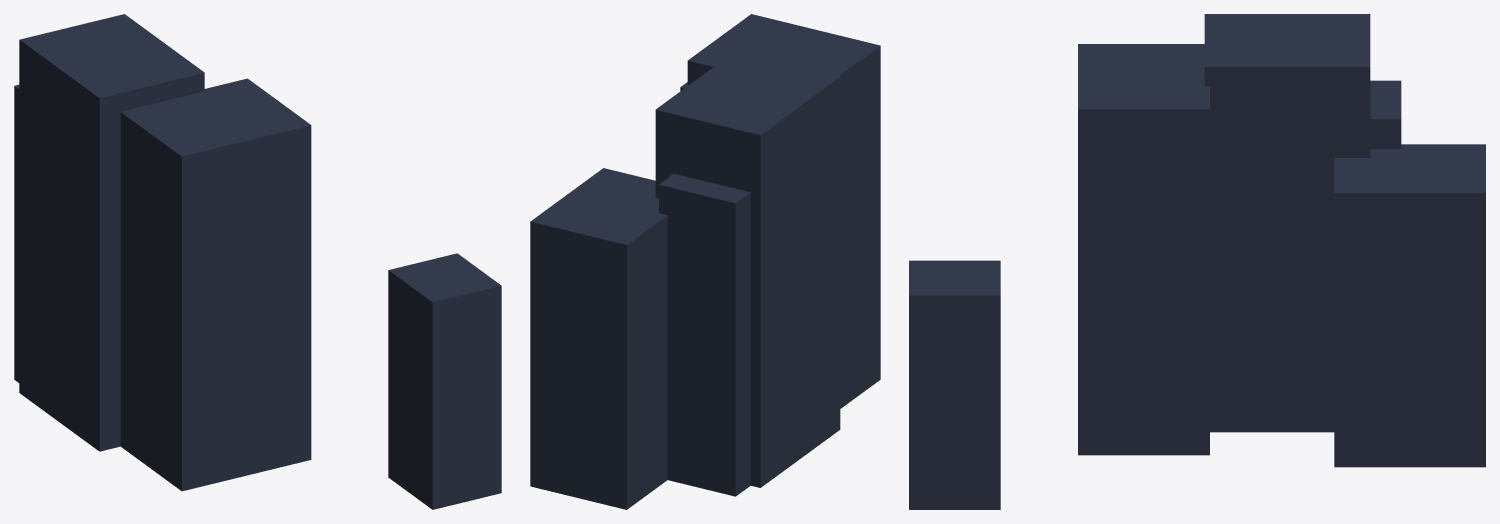
File: prop_backdrop_1.glb
The picture shows the model from 3 angles, left to right: view 1: azimuth 30°, elevation 25°; view 2: azimuth 150°, elevation 25°; view 3: azimuth 270°, elevation 25°; orthographic projection. The views are drawn at different scales.
Visible parts, largest first — view 1: prop_backdrop_1; view 2: prop_backdrop_1; view 3: prop_backdrop_1.
Part boxes in pixels (x1,y1,x2,y2): prop_backdrop_1: (14, 14, 501, 509); prop_backdrop_1: (530, 14, 880, 509); prop_backdrop_1: (909, 14, 1485, 509).
Size of the model in its own units: 3.34 by 4.36 by 6.24.
